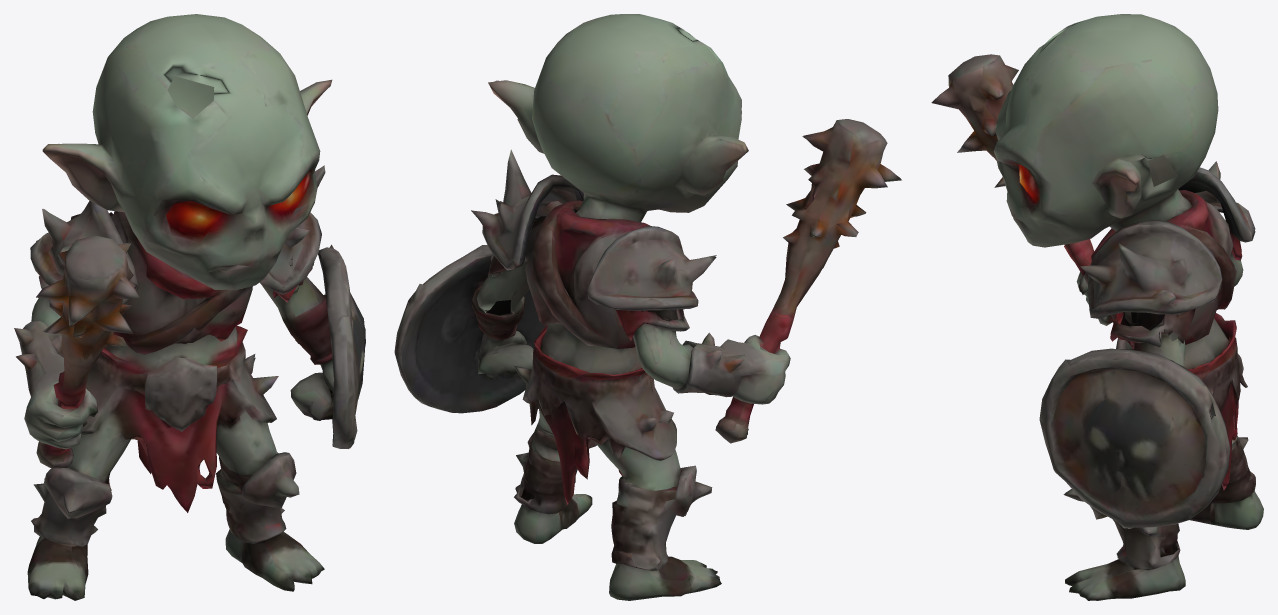
File: model-creep-melee.glb
The picture shows the model from 3 angles, left to right: view 1: azimuth 30°, elevation 25°; view 2: azimuth 150°, elevation 25°; view 3: azimuth 270°, elevation 25°; orthographic projection. The views are drawn at different scales.
Visible parts, largest first — view 1: geometry_0; view 2: geometry_0; view 3: geometry_0.
Boxes of the visible parts, bbox=[...] form: geometry_0: bbox=[14, 14, 365, 600]; geometry_0: bbox=[394, 14, 901, 600]; geometry_0: bbox=[931, 14, 1263, 600].
Size of the model in its own units: 0.7858 by 0.9979 by 0.5673.
Materials: 1 (1 with a texture image).
